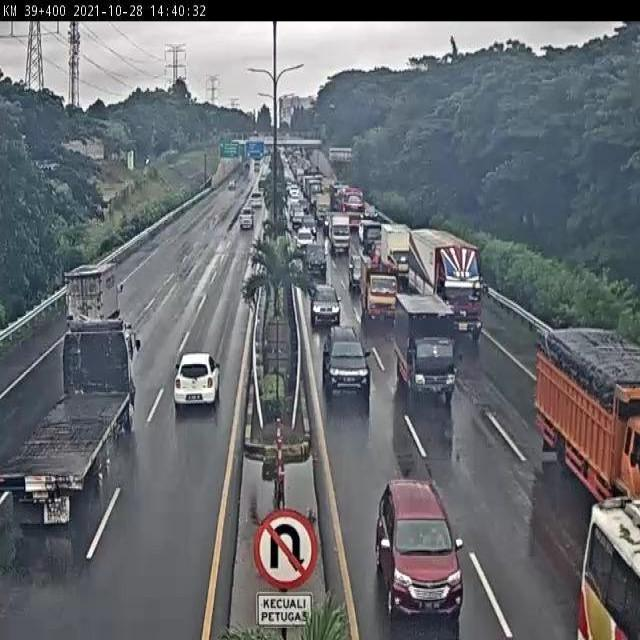mid truck: (0, 309, 151, 539)
